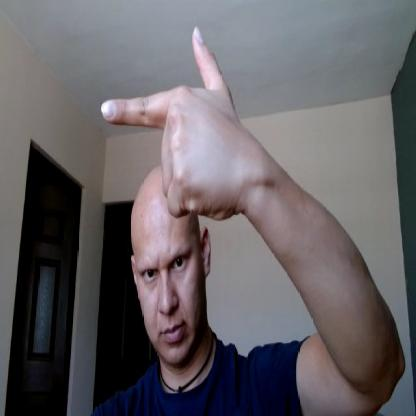G: (101, 24, 242, 218)
